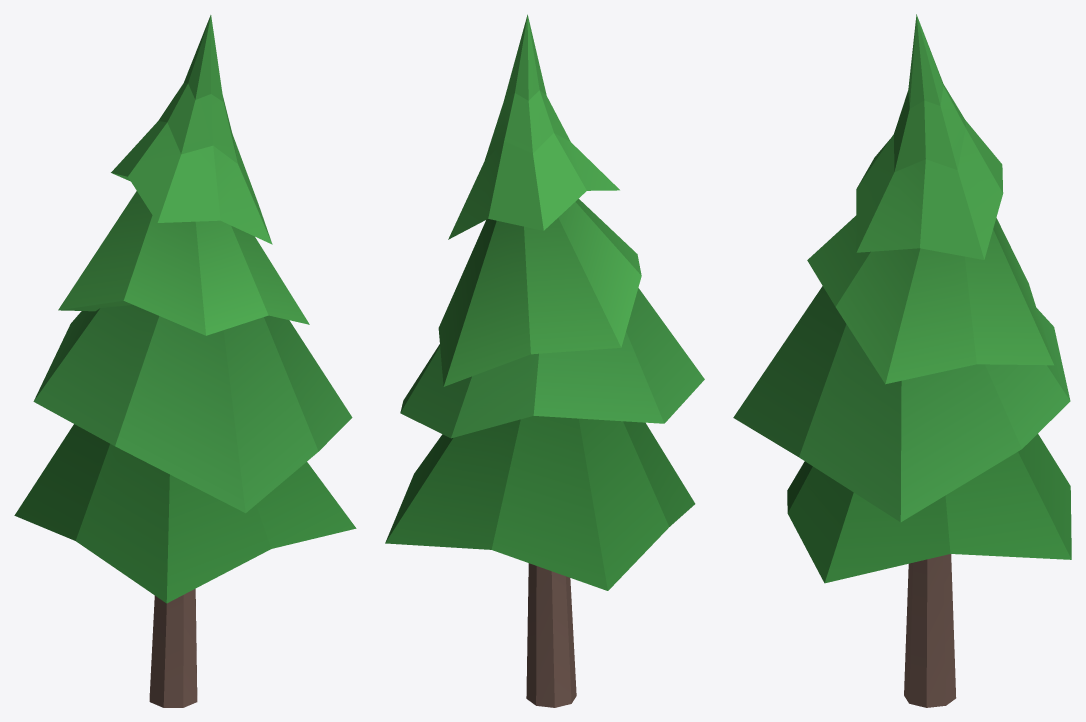
Rendered from fir_tree_006.glb.
3 views of the same model, side by side, from view 1: azimuth 30°, elevation 25°; view 2: azimuth 150°, elevation 25°; view 3: azimuth 270°, elevation 25° (orthographic). The views are drawn at different scales.
Parts seen in each view (by area): view 1: fir_tree_006; view 2: fir_tree_006; view 3: fir_tree_006.
Part boxes in pixels (box(x1,y1,x2,y2)): fir_tree_006: box(14, 15, 356, 707); fir_tree_006: box(385, 14, 704, 707); fir_tree_006: box(733, 14, 1071, 707).
Size of the model in its own units: 1.38 by 3.09 by 1.36.
1 material, 1 textured.
